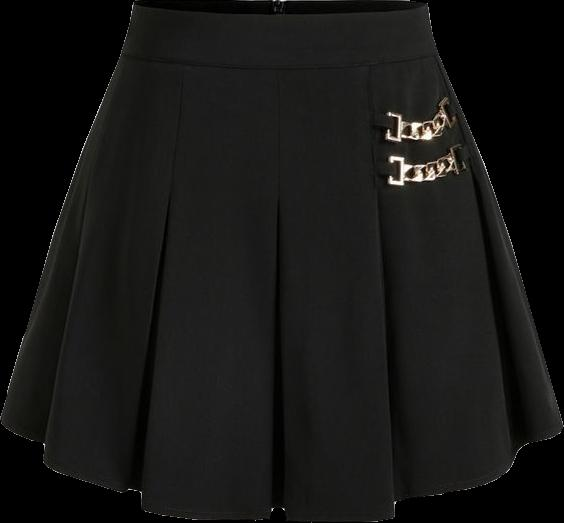Hemline: (0, 415, 563, 522)
Waistline: (117, 46, 438, 71), (132, 0, 427, 21)
